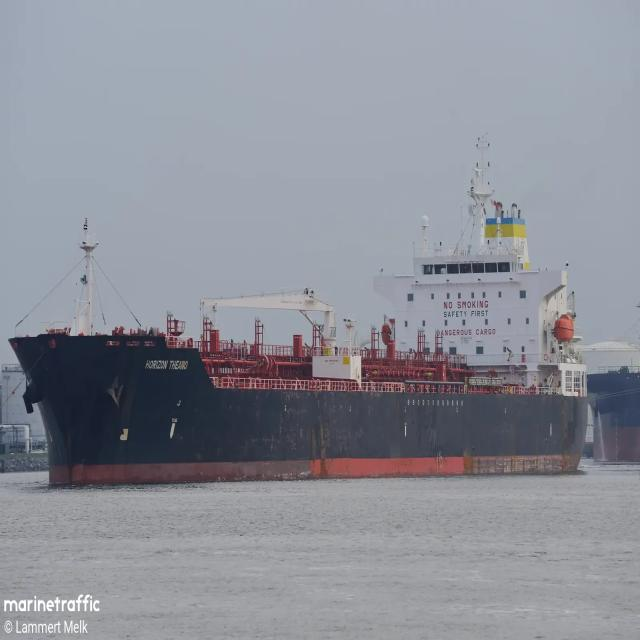Tanker: (9, 140, 589, 484)
